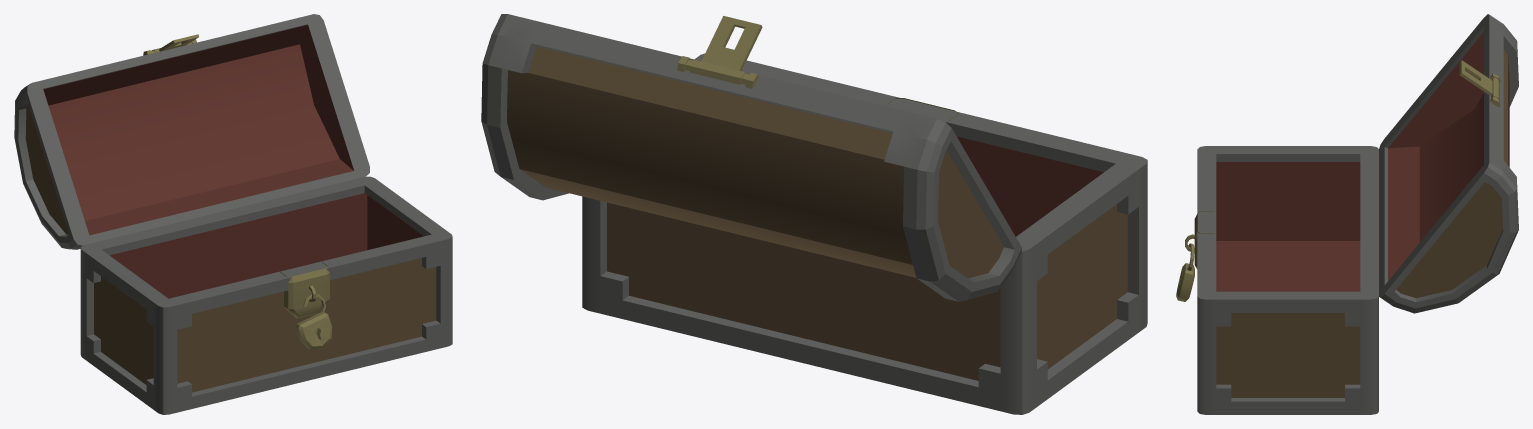
File: SM_ChestOpen.fbx
3 renders of one model, left to right at view 1: azimuth 30°, elevation 25°; view 2: azimuth 150°, elevation 25°; view 3: azimuth 270°, elevation 25°, orthographic. The views are drawn at different scales.
Visible parts, largest first — view 1: ChestBottom, ChestTop, LockOpen; view 2: ChestBottom, ChestTop; view 3: ChestBottom, ChestTop, LockOpen.
Boxes of the visible parts, x1=… form: ChestBottom: x1=80, y1=176, x2=452, y2=414; ChestTop: x1=14, y1=14, x2=369, y2=249; LockOpen: x1=295, y1=294, x2=332, y2=349; ChestBottom: x1=582, y1=53, x2=1147, y2=414; ChestTop: x1=481, y1=14, x2=1021, y2=301; ChestBottom: x1=1185, y1=146, x2=1378, y2=414; ChestTop: x1=1379, y1=14, x2=1518, y2=313; LockOpen: x1=1176, y1=243, x2=1194, y2=301.
Bounding box in the file's own units: 20.21 × 18.86 × 16.5.
